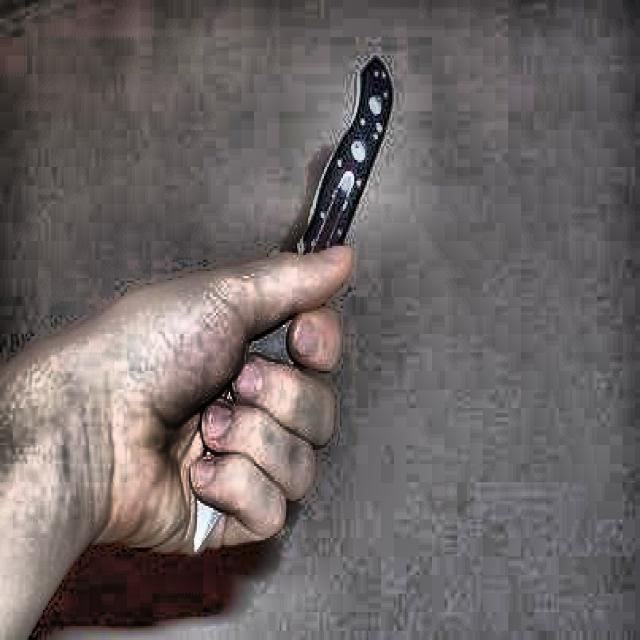knife: (192, 60, 391, 550)
